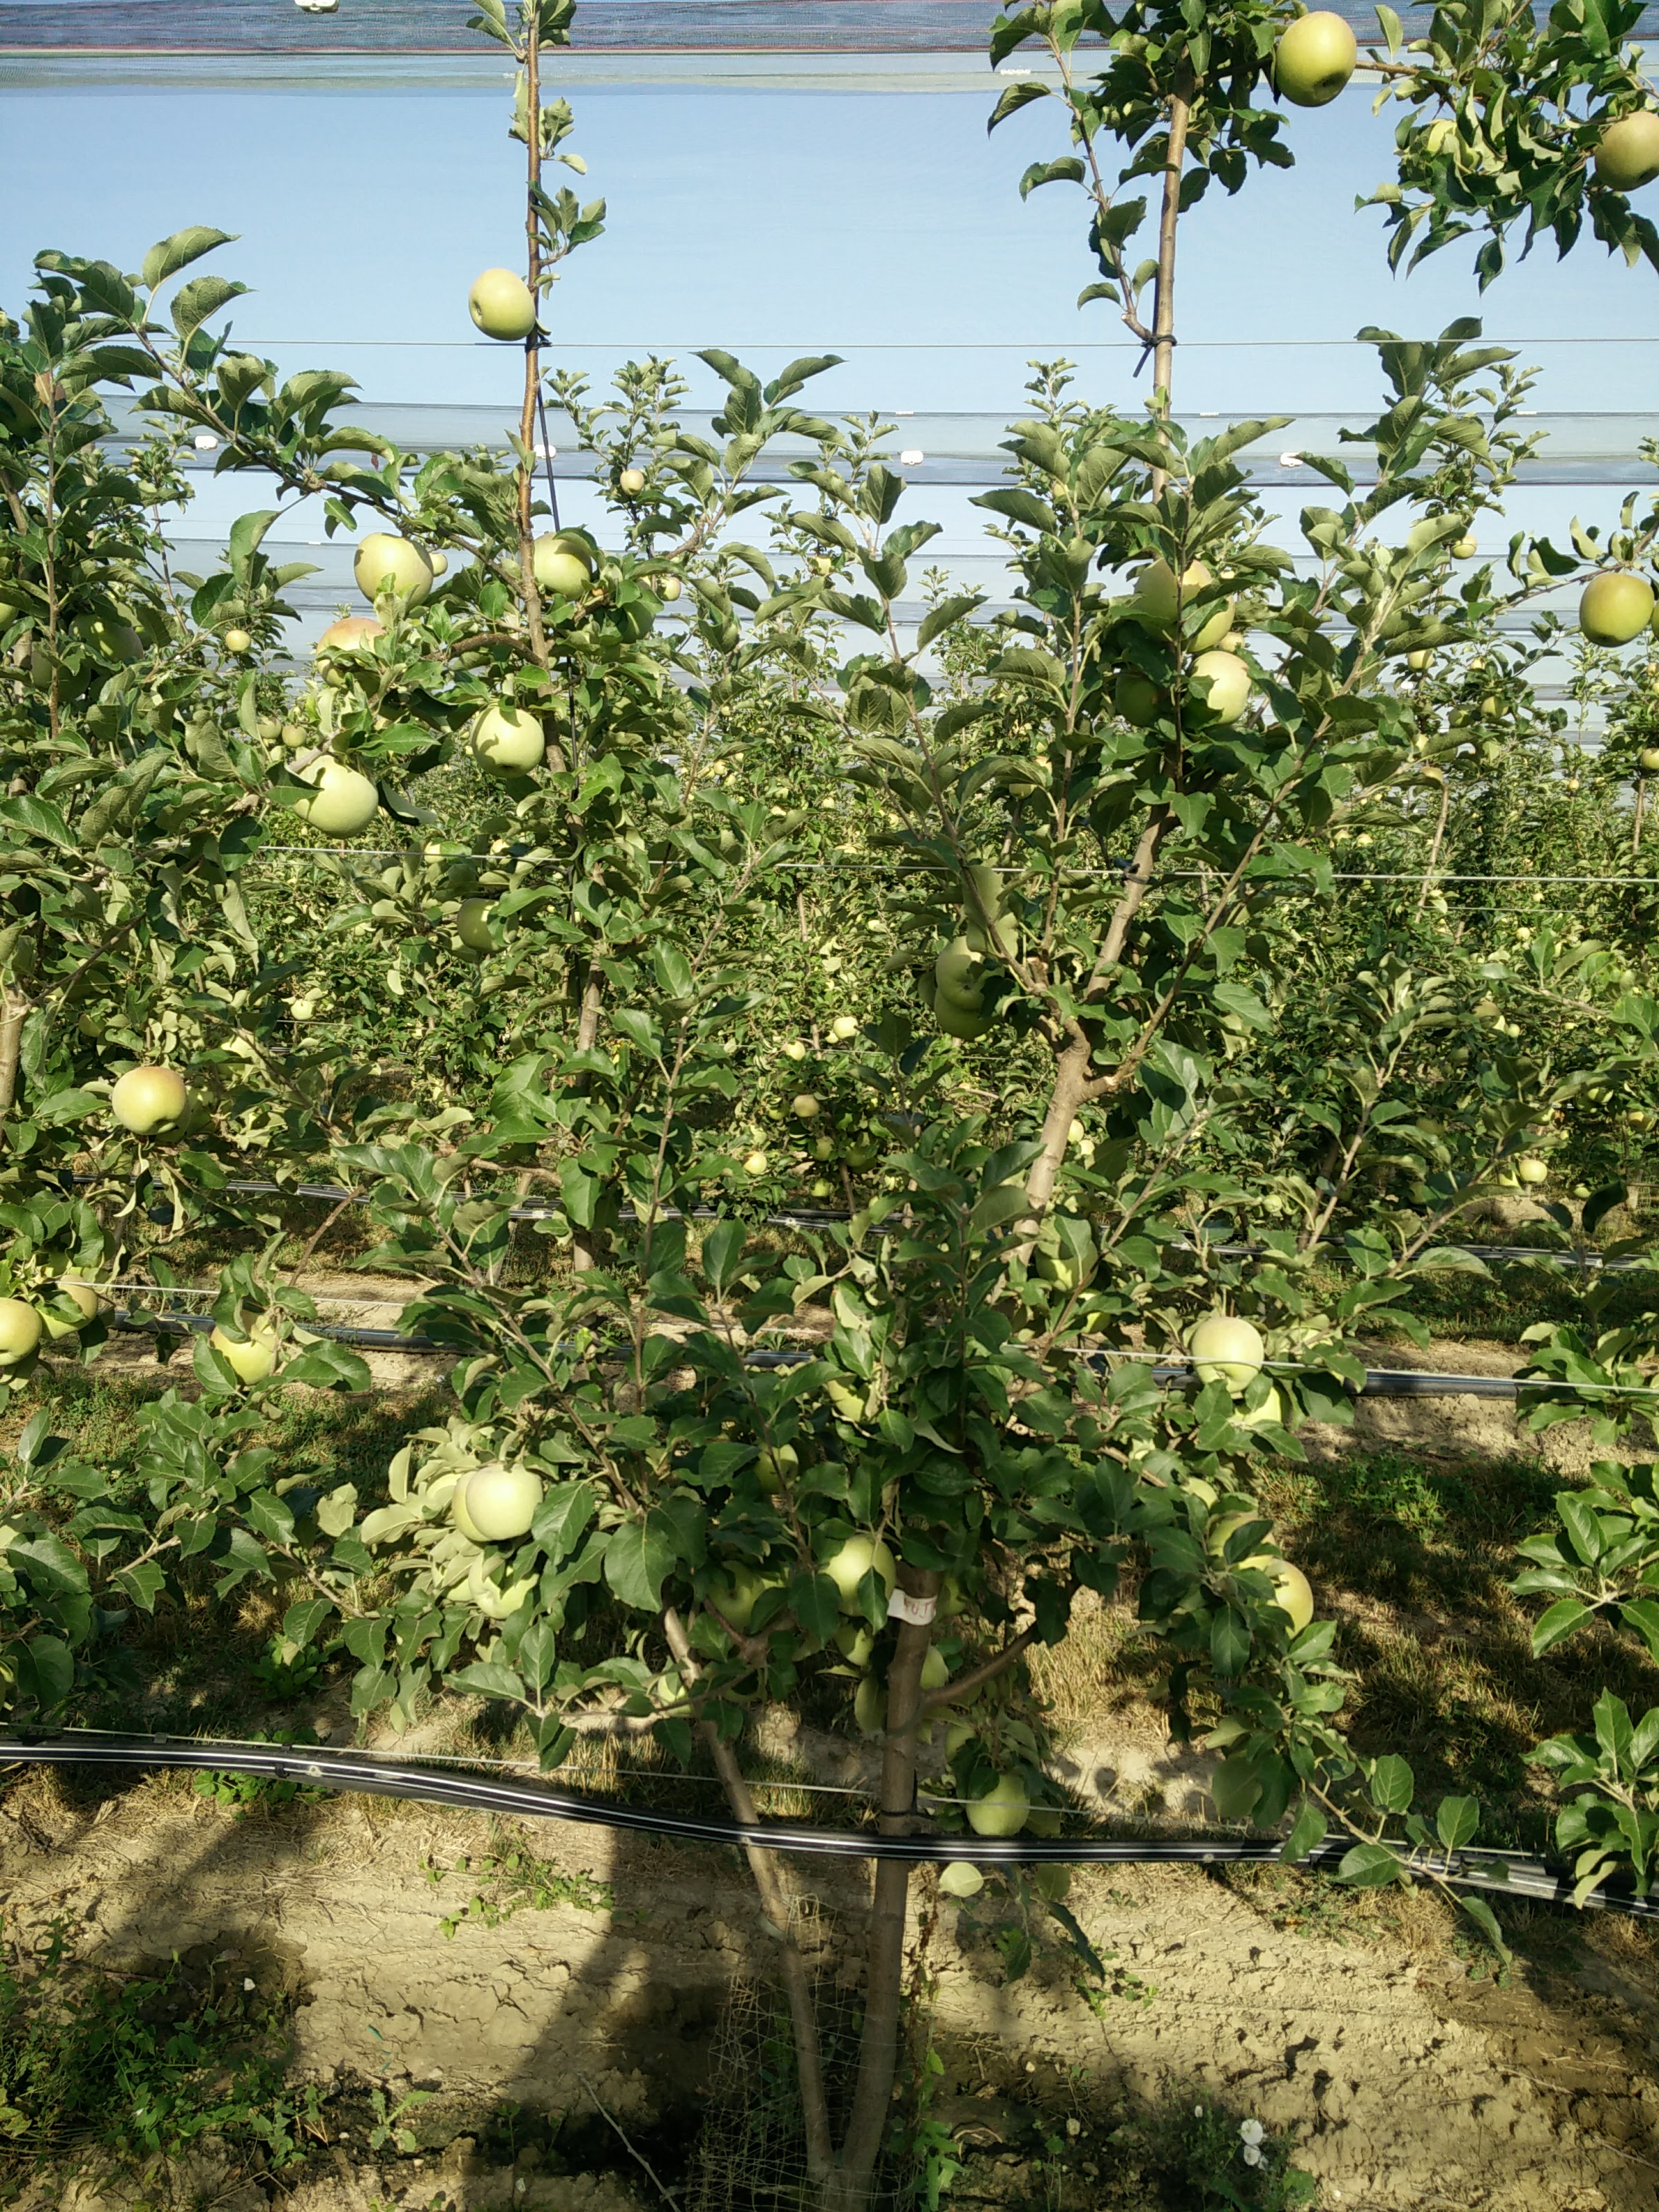apple: (1267, 6, 1358, 111), (805, 1528, 897, 1620), (1134, 559, 1229, 647), (291, 758, 381, 837), (1576, 570, 1656, 650), (1188, 1314, 1267, 1396), (351, 532, 435, 610), (1174, 654, 1262, 727), (1590, 104, 1659, 194), (523, 525, 605, 598), (464, 1466, 539, 1544), (467, 704, 547, 776), (465, 267, 540, 340), (204, 1319, 285, 1383), (111, 1065, 183, 1134), (959, 1774, 1031, 1842)
